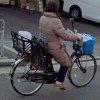bicycles: (11, 43, 98, 97)
